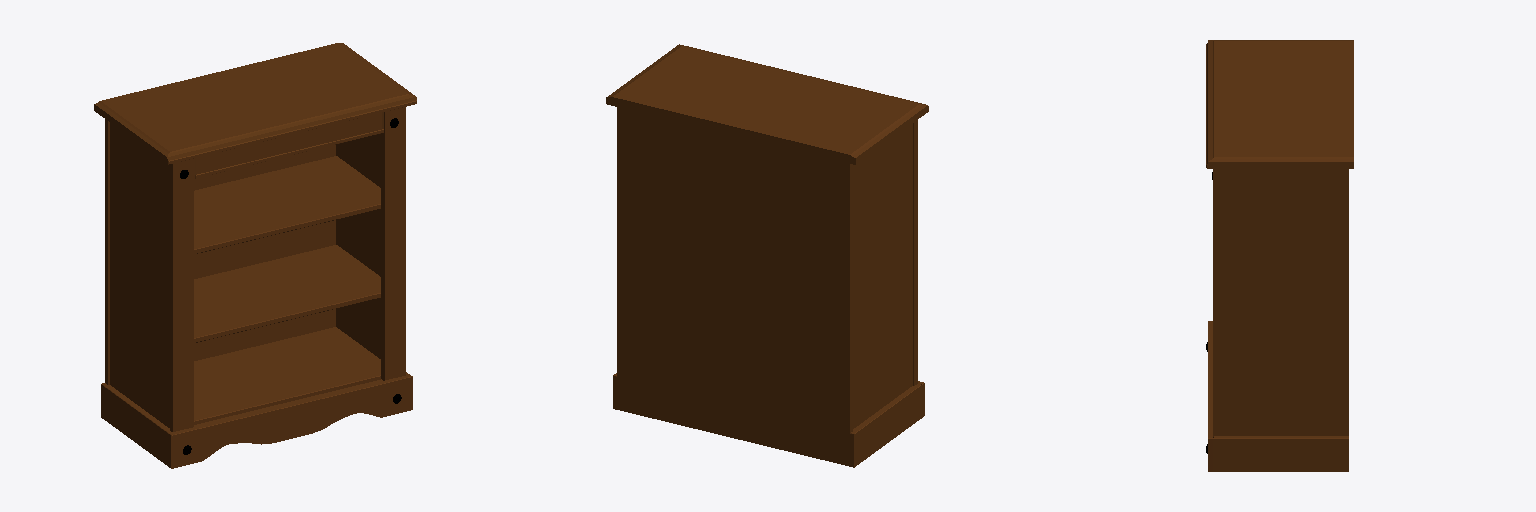
File: small.obj
The picture shows the model from 3 angles: view 1: azimuth 30°, elevation 25°; view 2: azimuth 150°, elevation 25°; view 3: azimuth 270°, elevation 25°; orthographic projection.
Parts seen in each view (by area): view 1: Corona_Low__Bookcase.002_Cube.020; view 2: Corona_Low__Bookcase.002_Cube.020; view 3: Corona_Low__Bookcase.002_Cube.020.
Boxes of the visible parts, <box> form: Corona_Low__Bookcase.002_Cube.020: <box>94,43,416,468</box>; Corona_Low__Bookcase.002_Cube.020: <box>606,44,928,467</box>; Corona_Low__Bookcase.002_Cube.020: <box>1206,40,1353,471</box>.
Bounding box in the file's own units: 0.827 × 0.9965 × 0.425.